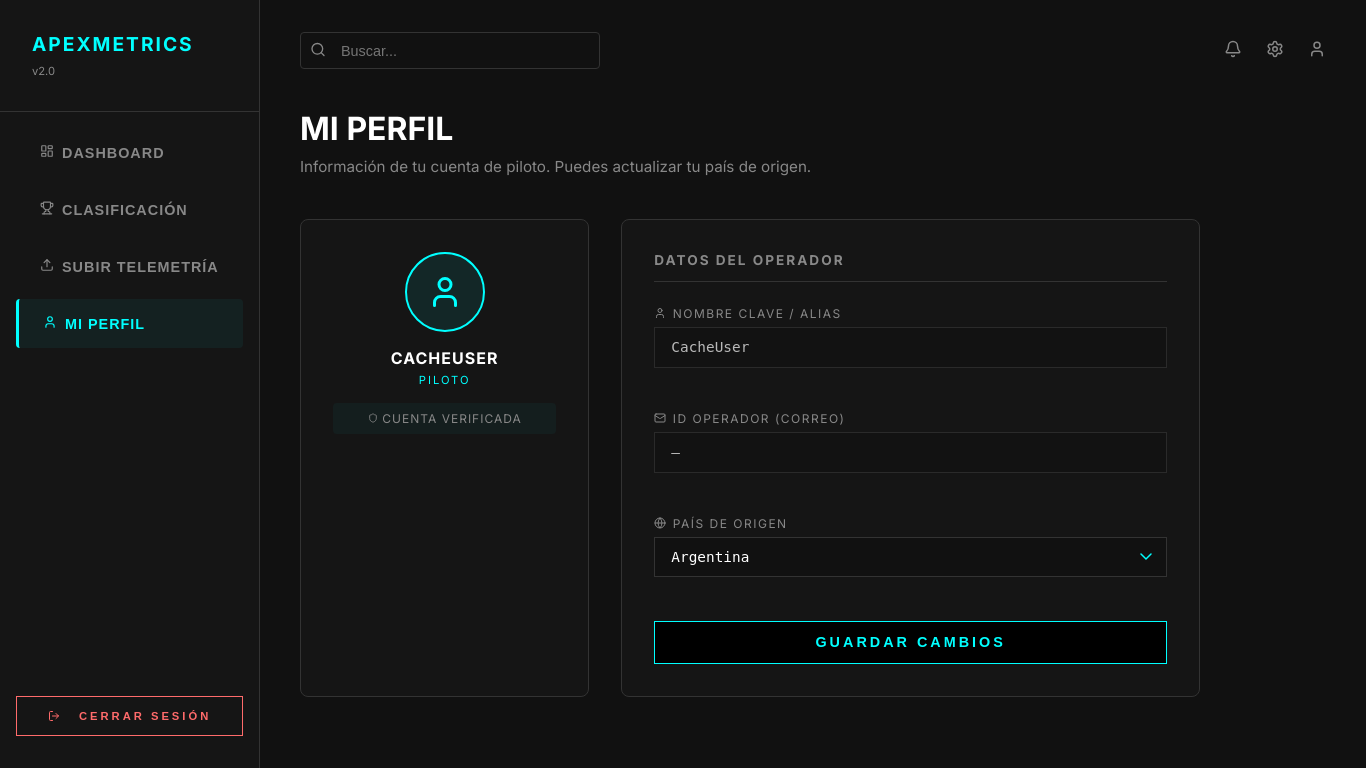
Test: Profile — RF03 › muestra "SINCRONIZADO" y actualiza localStorage tras guardar con éxito
What coordinates should you click on to do the following:
click the button "GUARDAR CAMBIOS"
I would click on:
 (911, 642)
Its box is [654,621,1167,664].
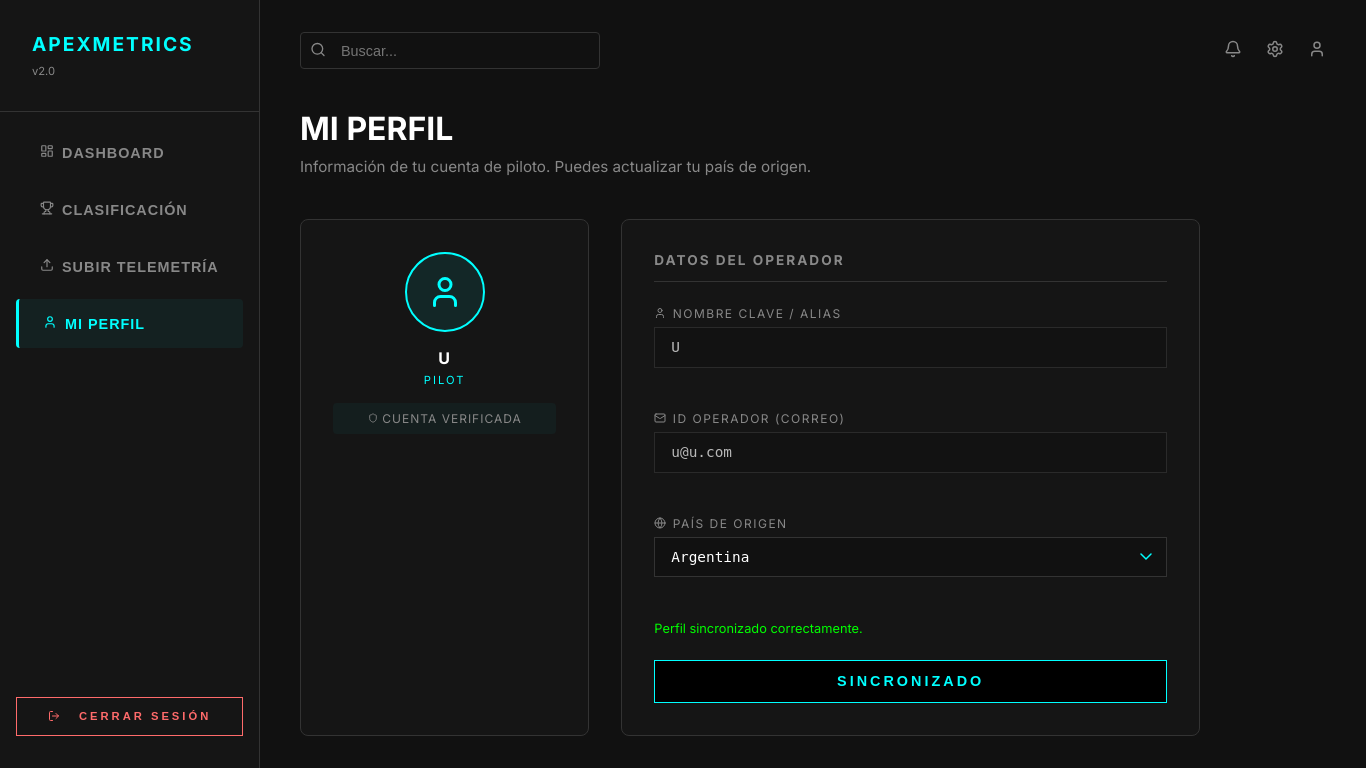
Expected: the button "SINCRONIZADO" is shown, [654,660,1167,703]
